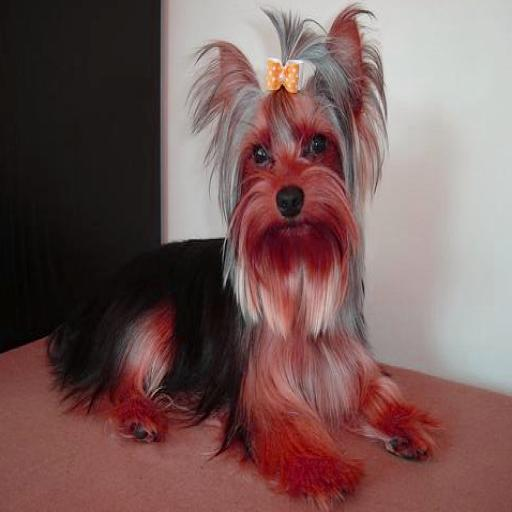dog_face: (195, 15, 376, 295)
